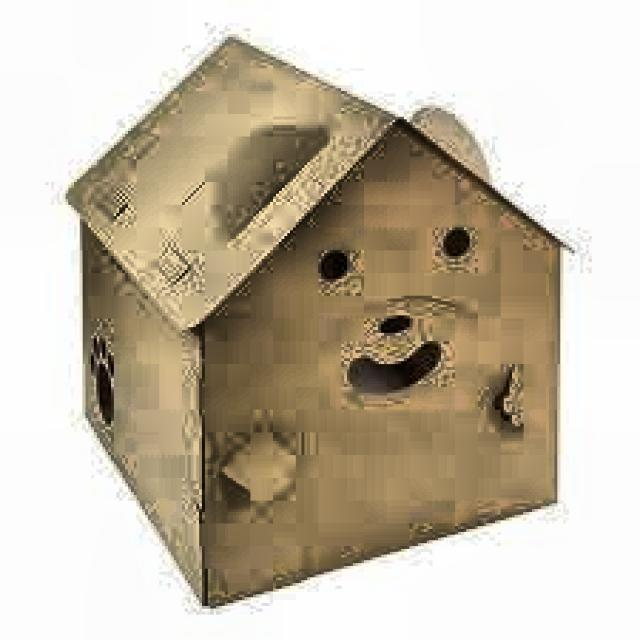cardboard: (62, 31, 572, 609)
